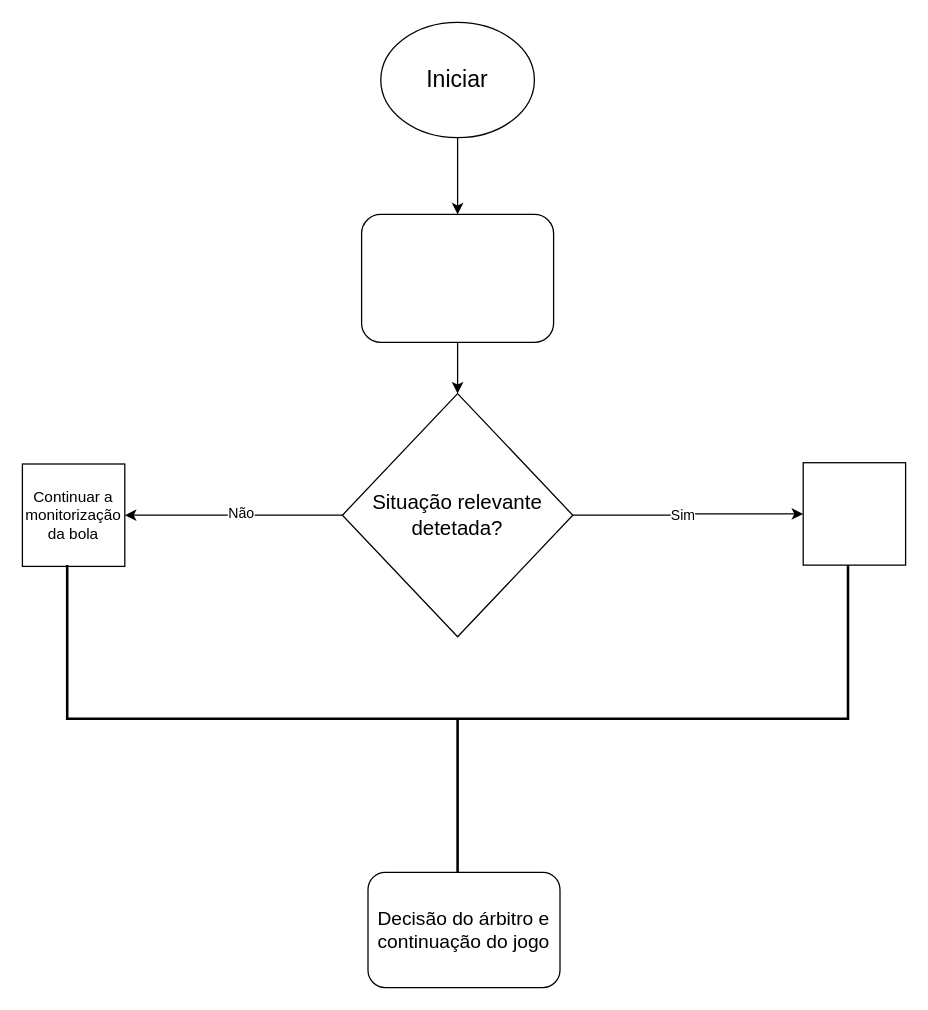
Image size: 928x1010. Some labels were removed from this diagram. The box of each missing label's shape, as (x1, y1, x2, y2) in pixels:
Enviar alerta ao árbitro e analisar as regras oficiais: (802, 461, 906, 565)
Sensor integrado na bola recolhe dados (posição, movimento e contacto): (360, 213, 554, 342)
